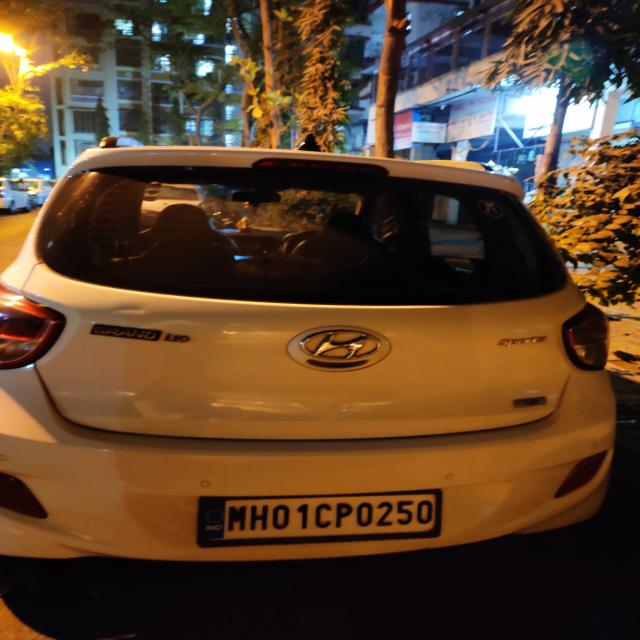Number-Plate: (205, 493, 441, 540)
